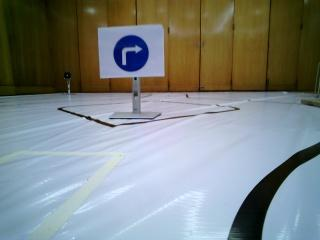right: (104, 31, 161, 73)
